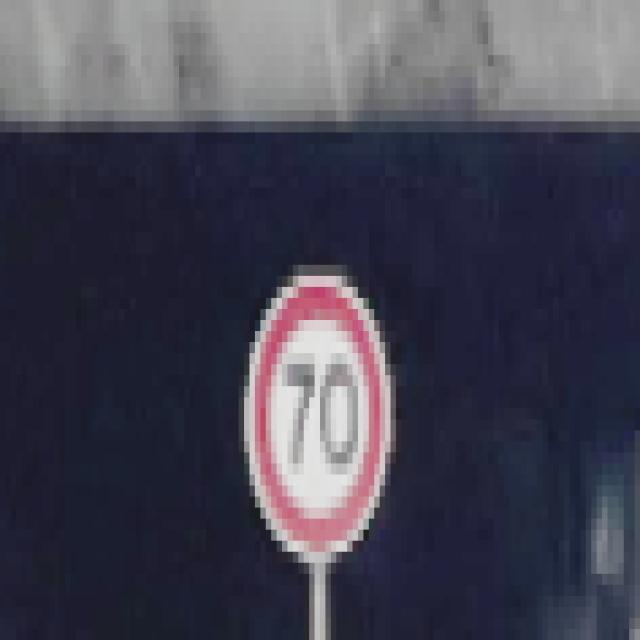speed_70: (243, 274, 394, 569)
